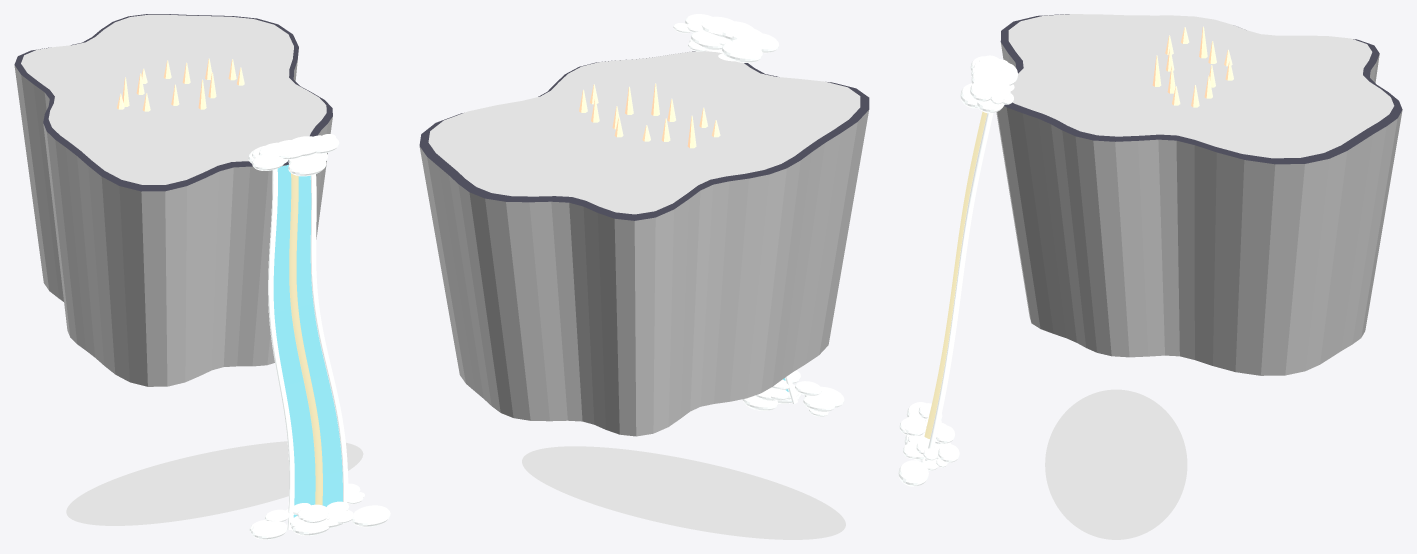
Rendered from wano-waterfall-ascent.glb.
3 renders of one model, left to right at view 1: azimuth 30°, elevation 25°; view 2: azimuth 150°, elevation 25°; view 3: azimuth 270°, elevation 25°, orthographic. The views are drawn at different scales.
Visible parts, largest first — view 1: Raised Wano cliff body, Wano upper country, Sea below Wano, Wano vertical waterfall, Runtime ship waterfall path, Falls foam edge left, Falls foam edge right, Base mist 24, Crest mist 14, Base mist 15; view 2: Raised Wano cliff body, Wano upper country, Sea below Wano, Crest mist 07; view 3: Raised Wano cliff body, Wano upper country, Sea below Wano, Falls foam edge right, Runtime ship waterfall path, Base mist 24.
Boxes of the visible parts, x1,y1,x2,y2 form: Raised Wano cliff body: [14, 14, 332, 386]; Wano upper country: [21, 14, 326, 184]; Sea below Wano: [66, 441, 363, 525]; Wano vertical waterfall: [273, 164, 342, 517]; Runtime ship waterfall path: [289, 173, 322, 505]; Falls foam edge left: [268, 169, 294, 529]; Falls foam edge right: [310, 174, 348, 510]; Base mist 24: [351, 505, 390, 527]; Crest mist 14: [288, 155, 326, 176]; Base mist 15: [251, 520, 287, 539]; Raised Wano cliff body: [419, 51, 869, 436]; Wano upper country: [428, 51, 860, 214]; Sea below Wano: [522, 446, 845, 539]; Crest mist 07: [722, 41, 762, 62]; Raised Wano cliff body: [996, 14, 1402, 375]; Wano upper country: [1008, 14, 1394, 158]; Sea below Wano: [1045, 389, 1187, 539]; Falls foam edge right: [925, 113, 993, 460]; Runtime ship waterfall path: [924, 111, 987, 438]; Base mist 24: [898, 460, 928, 486].
Size of the model in its own units: 4.63 by 5.76 by 6.37.
